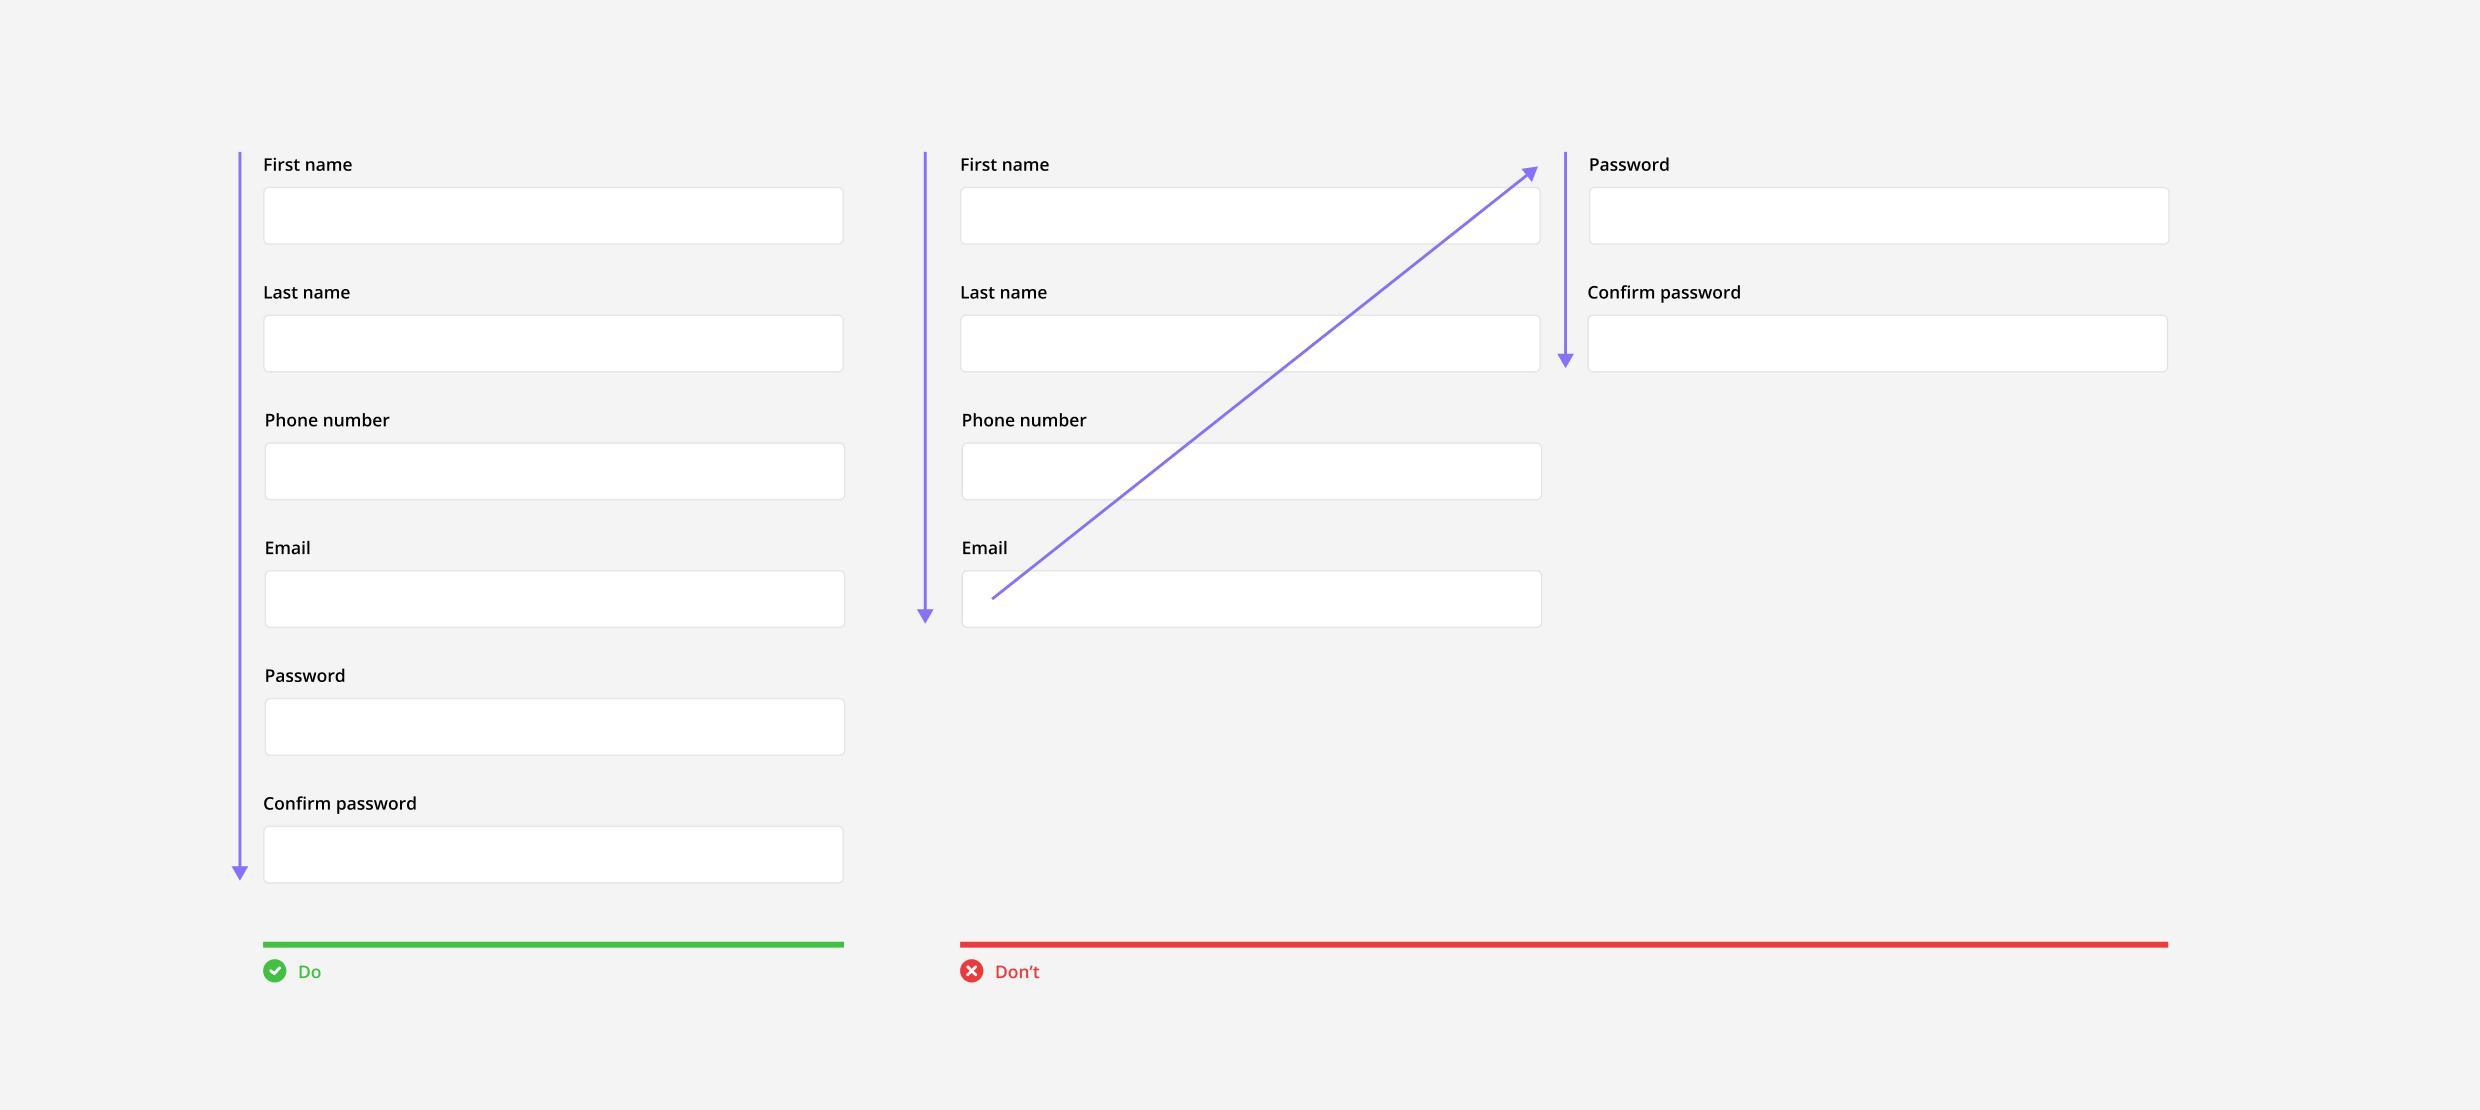input: (1586, 187, 2175, 251), (1583, 311, 2170, 376), (263, 569, 849, 632), (264, 441, 848, 503), (264, 824, 848, 885), (264, 315, 846, 376), (263, 188, 848, 248), (263, 699, 846, 757)
label: (1585, 285, 1752, 307), (266, 795, 421, 814), (962, 413, 1087, 432), (264, 153, 354, 179), (267, 413, 395, 429), (960, 157, 1052, 176), (960, 285, 1050, 304), (1585, 157, 1672, 174), (266, 667, 348, 685), (263, 286, 351, 300), (996, 965, 1042, 984), (266, 541, 313, 558), (962, 541, 1009, 558), (299, 968, 326, 980)
